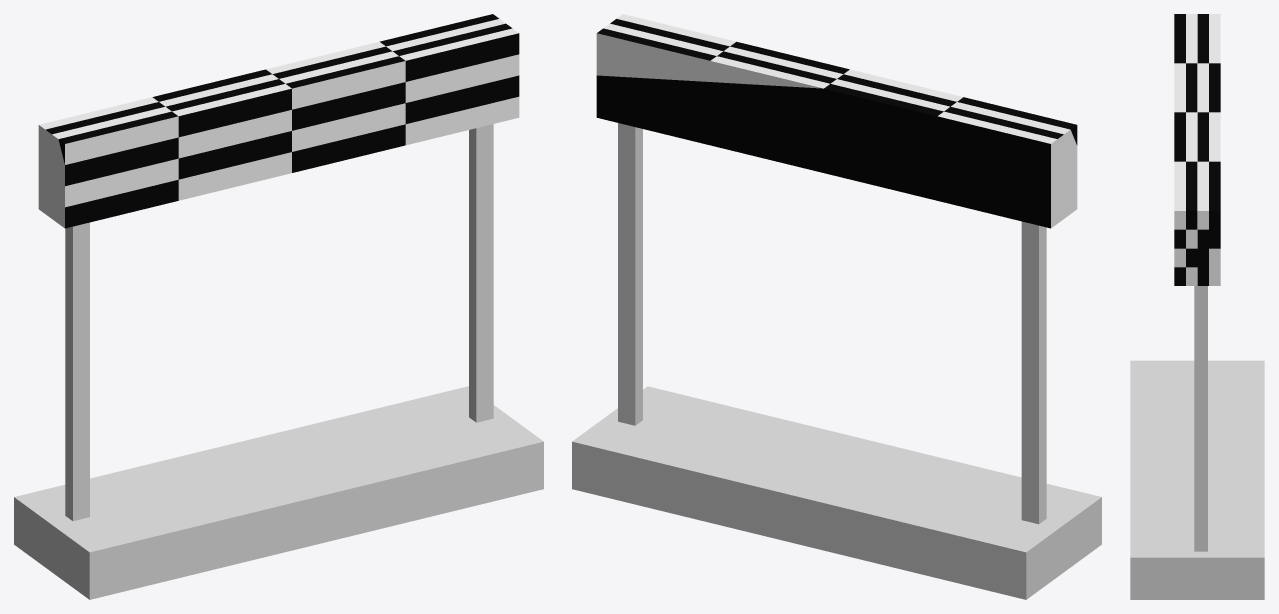
The model's file is finish.glb.
The picture shows the model from 3 angles, left to right: view 1: azimuth 30°, elevation 25°; view 2: azimuth 150°, elevation 25°; view 3: azimuth 270°, elevation 25°; orthographic projection. The views are drawn at different scales.
Parts seen in each view (by area): view 1: Cube, Cube.003, Cube.001, Cube.002; view 2: Cube, Cube.003, Cube.001, Cube.002; view 3: Cube, Cube.003, Cube.002.
Part boxes in pixels (box(x1,y1,x2,y2)): Cube: box(14, 386, 543, 599); Cube.003: box(38, 14, 519, 228); Cube.001: box(65, 222, 89, 520); Cube.002: box(469, 124, 493, 422); Cube: box(572, 386, 1101, 599); Cube.003: box(596, 14, 1077, 228); Cube.001: box(1021, 221, 1046, 524); Cube.002: box(618, 123, 642, 425); Cube: box(1130, 360, 1264, 599); Cube.003: box(1174, 14, 1220, 285); Cube.002: box(1194, 286, 1207, 551).
Bounding box in the file's own units: 20 × 18.42 × 5.77.
3 materials, 1 textured.
